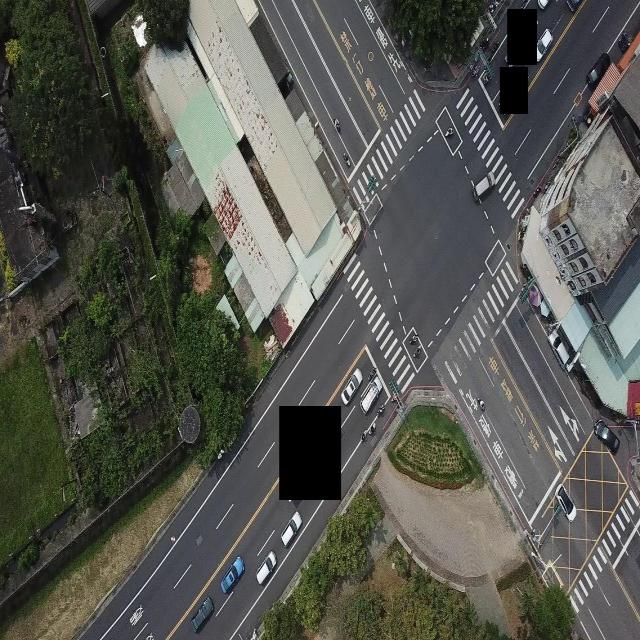bike: (342, 149, 352, 167), (333, 118, 341, 132), (445, 127, 454, 137)
car: (547, 328, 580, 373), (220, 555, 246, 594), (594, 419, 620, 455), (190, 595, 214, 633), (359, 375, 382, 414), (554, 483, 576, 523), (340, 367, 362, 406), (470, 171, 495, 205), (586, 52, 610, 87), (280, 511, 302, 548), (255, 550, 278, 585), (536, 28, 553, 63), (617, 32, 631, 52), (566, 0, 580, 12), (377, 402, 385, 417)
